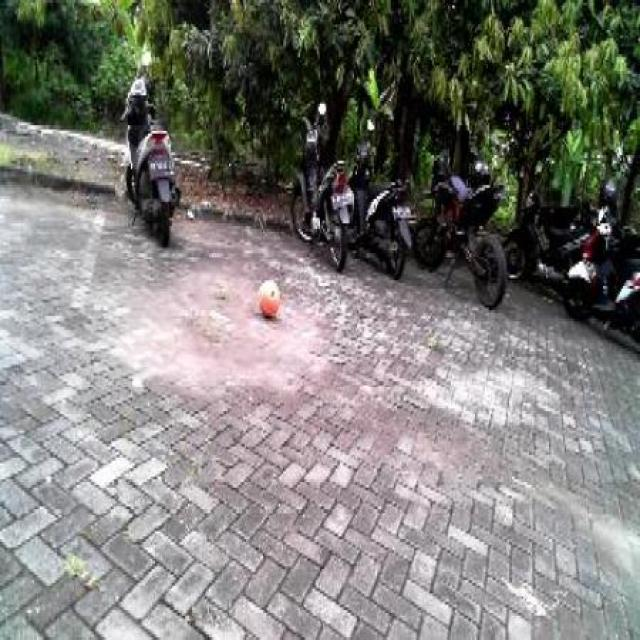buoy: (255, 268, 280, 324)
